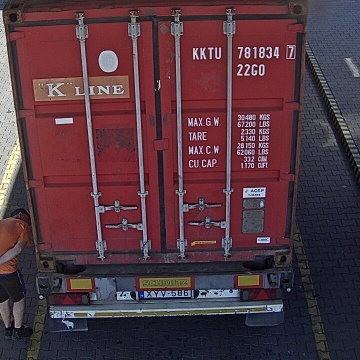serial_id: (193, 45, 295, 59)
